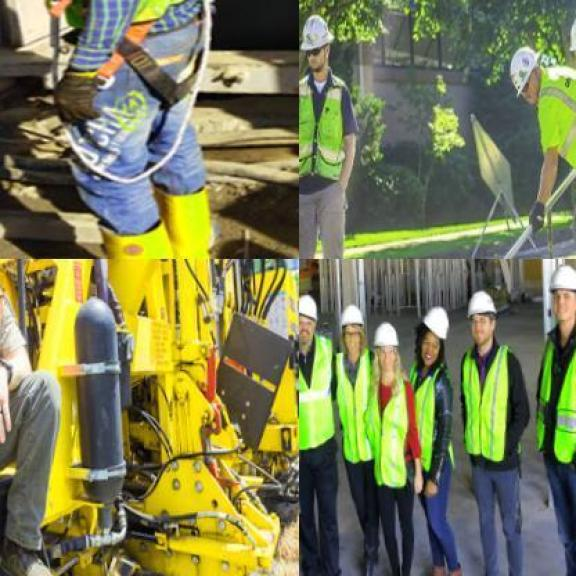safety_vest: (42, 0, 236, 60), (456, 348, 515, 480), (526, 328, 575, 478), (360, 380, 410, 502), (299, 70, 348, 186), (331, 353, 377, 475), (403, 362, 446, 484), (299, 335, 335, 461), (534, 69, 574, 173)
